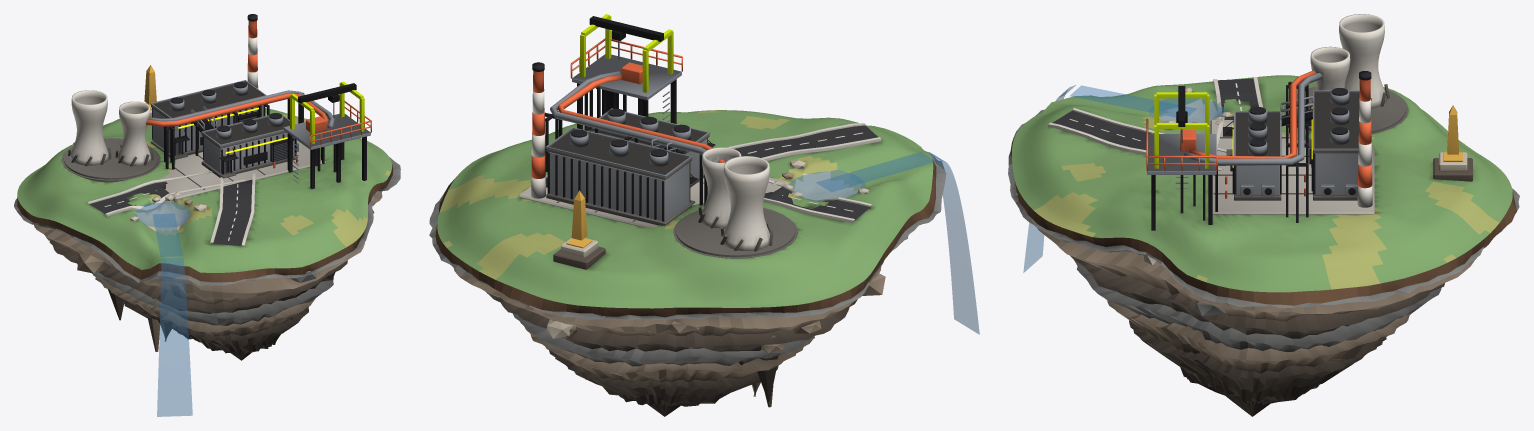
File: projects.glb
The picture shows the model from 3 angles, left to right: view 1: azimuth 30°, elevation 25°; view 2: azimuth 150°, elevation 25°; view 3: azimuth 270°, elevation 25°; orthographic projection. The views are drawn at different scales.
Visible parts, largest first — view 1: terrain, foundation, buildings, props, waterfall_0, landmarks, water_pond0, water_channel0, anim_spin_monument_obelisk; view 2: terrain, foundation, buildings, props, landmarks, waterfall_0, water_pond0, water_channel0, anim_spin_monument_obelisk; view 3: terrain, foundation, buildings, props, landmarks, water_channel0, water_pond0, waterfall_0, anim_spin_monument_obelisk.
Part boxes in pixels (<box>): terrain: <box>17,108,391,272</box>; foundation: <box>14,157,400,360</box>; buildings: <box>68,14,370,188</box>; props: <box>104,80,371,240</box>; waterfall_0: <box>157,258,192,416</box>; landmarks: <box>146,90,336,172</box>; water_pond0: <box>135,201,190,227</box>; water_channel0: <box>153,213,182,256</box>; anim_spin_monument_obelisk: <box>144,65,156,104</box>; terrain: <box>437,110,933,308</box>; foundation: <box>429,151,946,416</box>; buildings: <box>531,14,773,269</box>; props: <box>545,38,869,221</box>; landmarks: <box>544,71,725,205</box>; waterfall_0: <box>926,151,979,334</box>; water_pond0: <box>789,170,865,201</box>; water_channel0: <box>816,152,935,191</box>; anim_spin_monument_obelisk: <box>571,190,587,240</box>; terrain: <box>1012,75,1512,292</box>; foundation: <box>1008,109,1519,416</box>; buildings: <box>1147,14,1472,230</box>; props: <box>1069,83,1359,198</box>; landmarks: <box>1180,70,1322,222</box>; water_channel0: <box>1070,85,1196,116</box>; water_pond0: <box>1149,98,1226,124</box>; waterfall_0: <box>1023,85,1075,272</box>; anim_spin_monument_obelisk: <box>1447,105,1458,154</box>.
Size of the model in its own units: 15.78 by 13.2 by 16.21.
